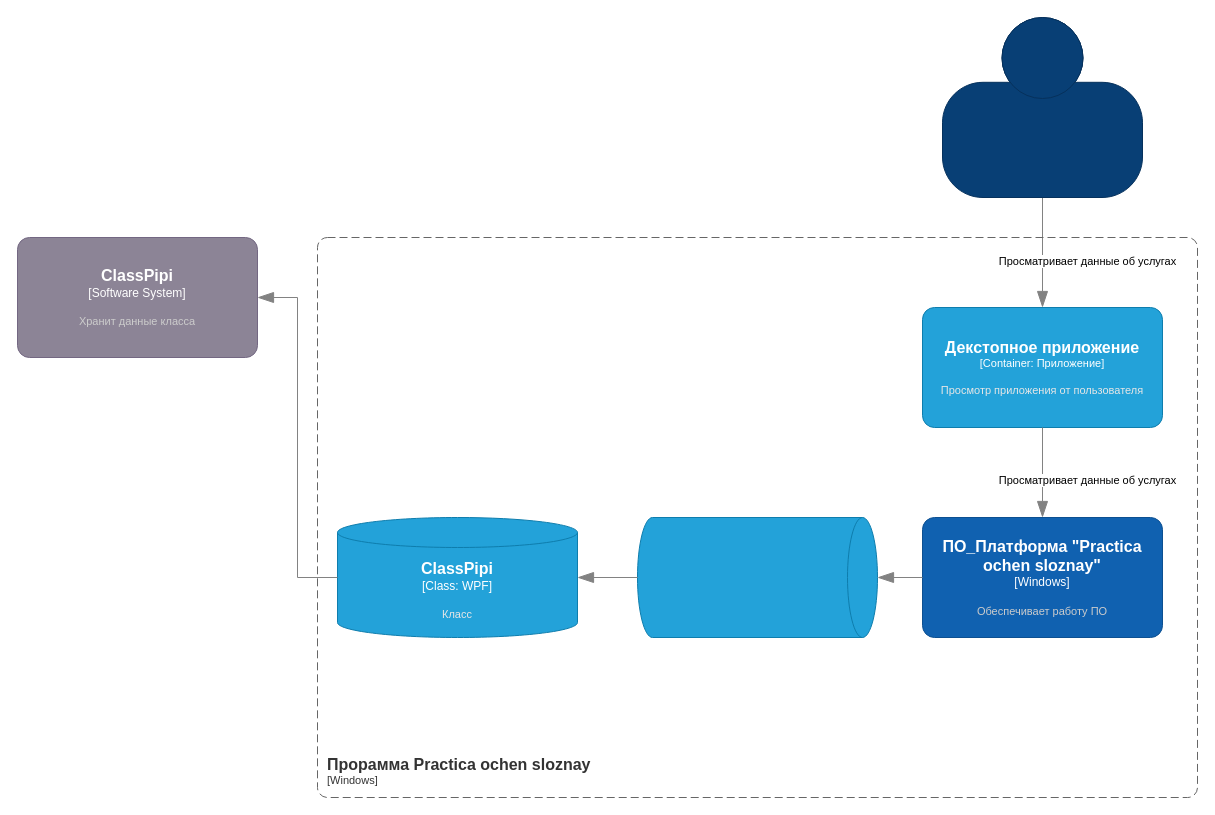
The diagram is 1215 pixels wide and 815 high, and some of its shapes have lost their labels. Each missing label, with the centre of its shape:
"Брокер [Container: Ожидание] Проверка отрисовки" belongs at (x=757, y=577).
"Пользователь [Person] Работает с интерфейсом программы" belongs at (x=1042, y=107).
